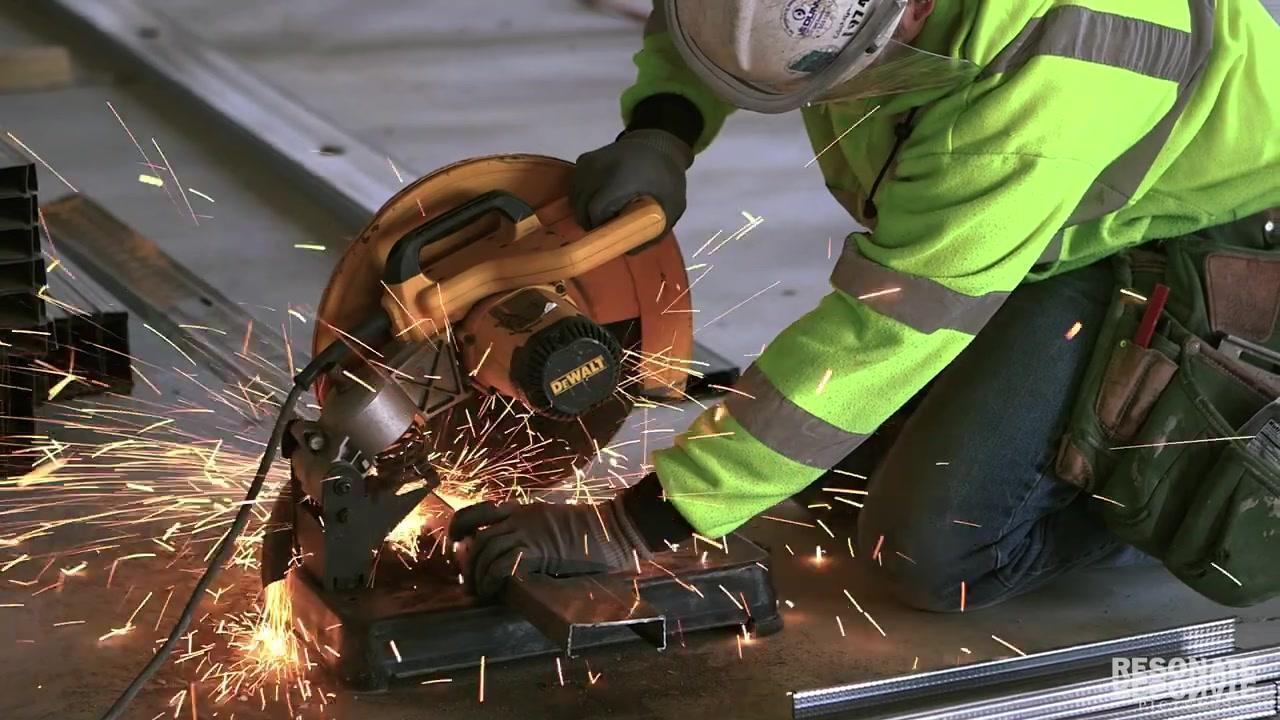vest: (616, 0, 1278, 540)
